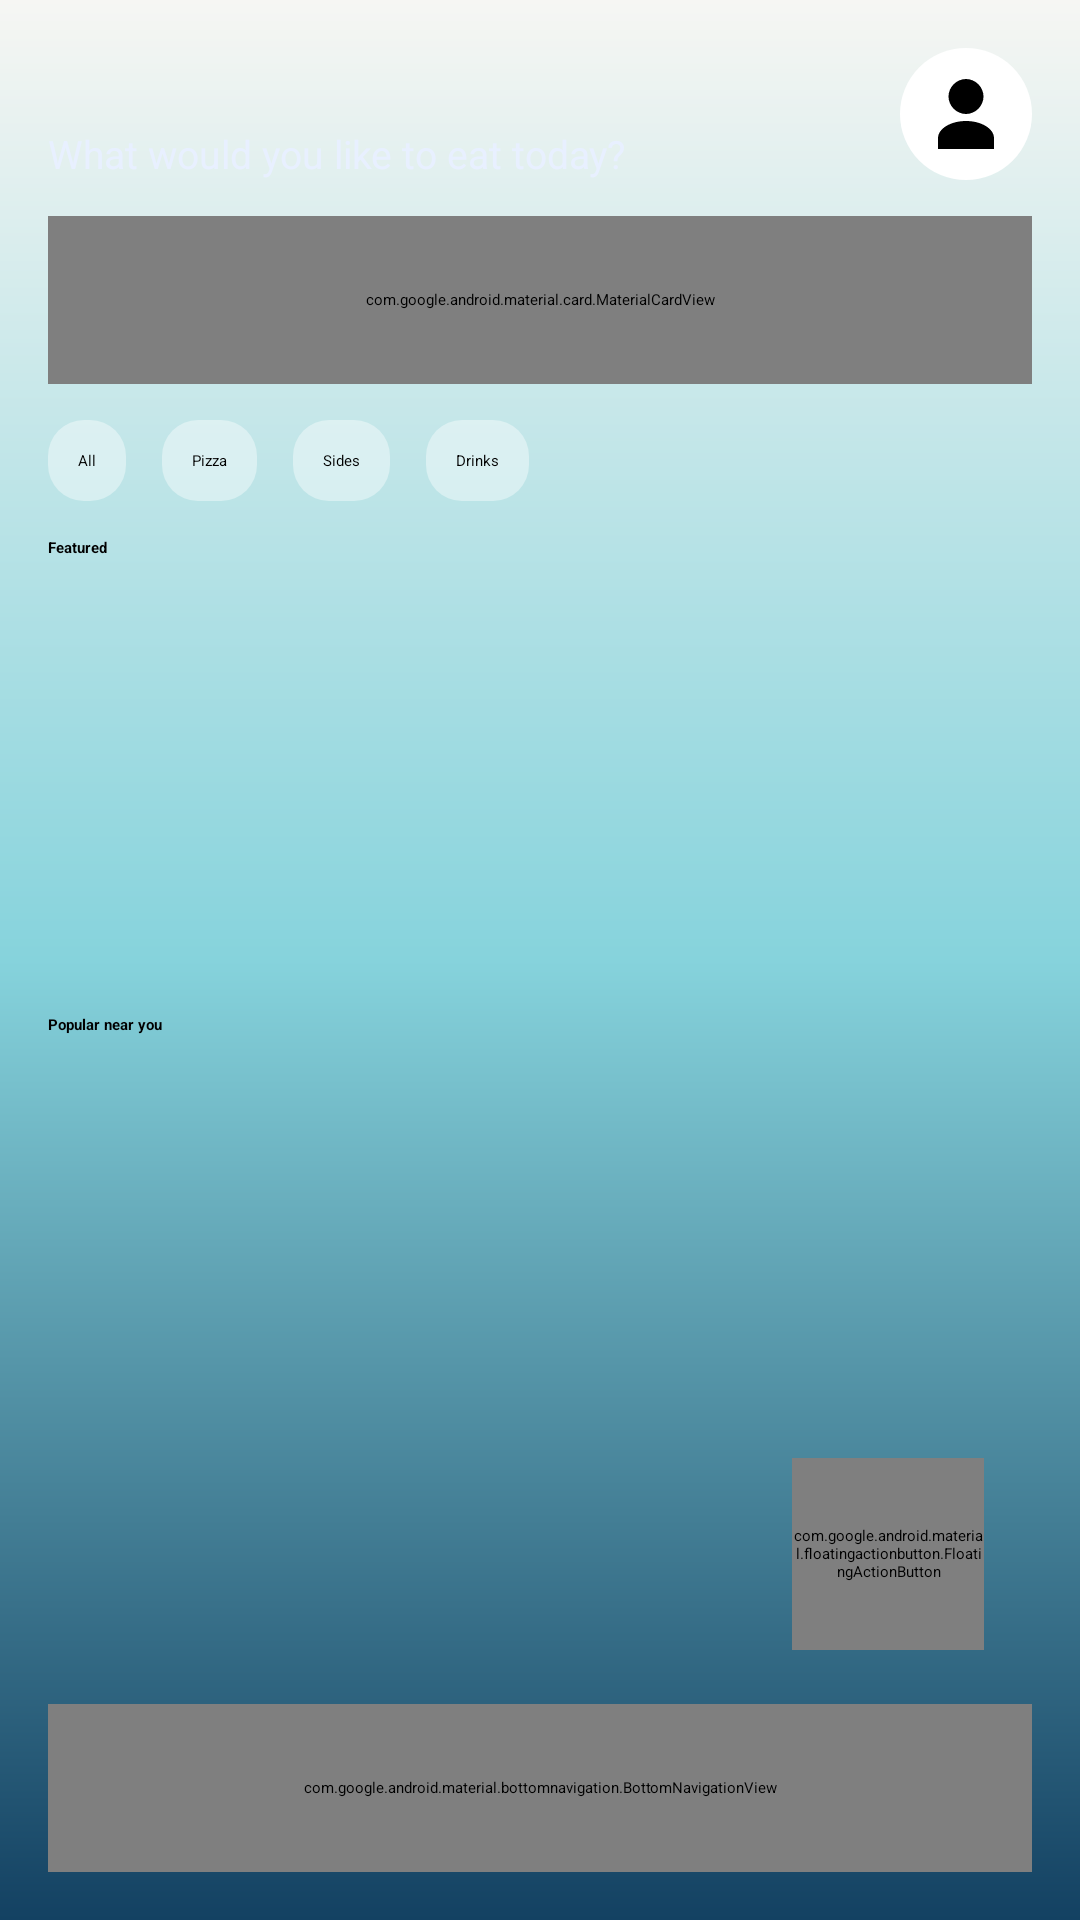

Icon click points for this 1080 x 1920 phone screenshot, format [x,y]:
profile: [966,114]
